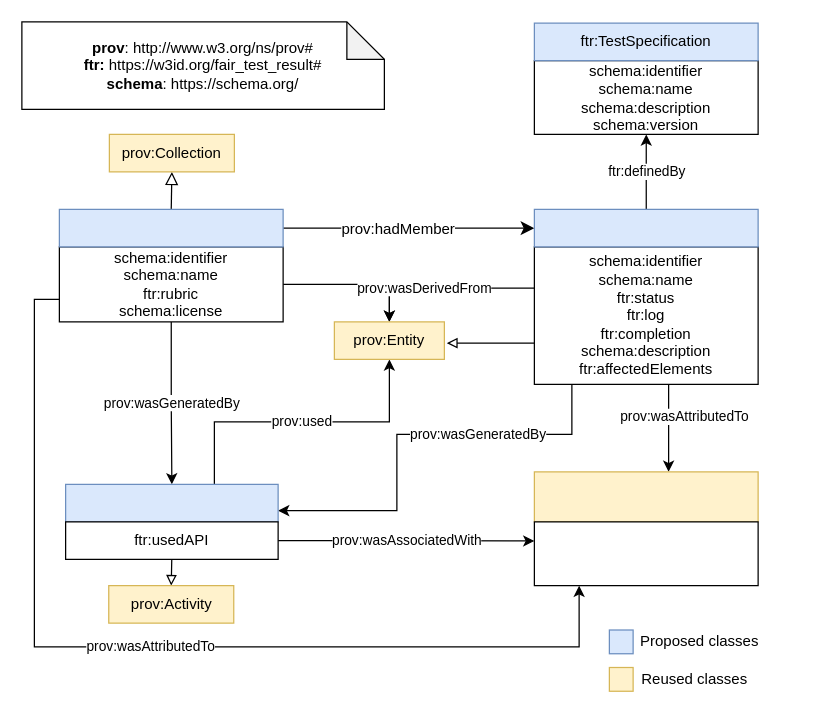
Some shapes in this 813 by 720 pixel diagram are drawn without their labels. Here are the shapes that lost their labels. From the top down, the centre of each, then its label:
[170,227]: ftr:TestResultSet
[645,227]: ftr:TestResult
[171,502]: ftr:TestExecutionActivity
[645,496]: schema:SoftwareApplication prov:SoftwareAgent
[645,553]: schema:softwareVersion schema:url
